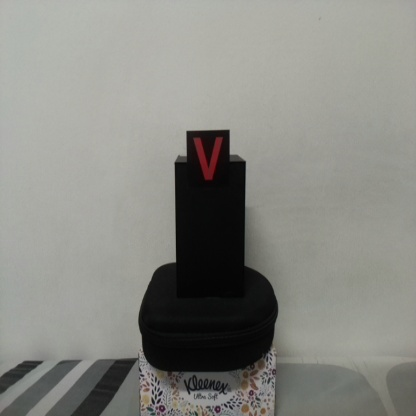id_11: (187, 131, 230, 188)
